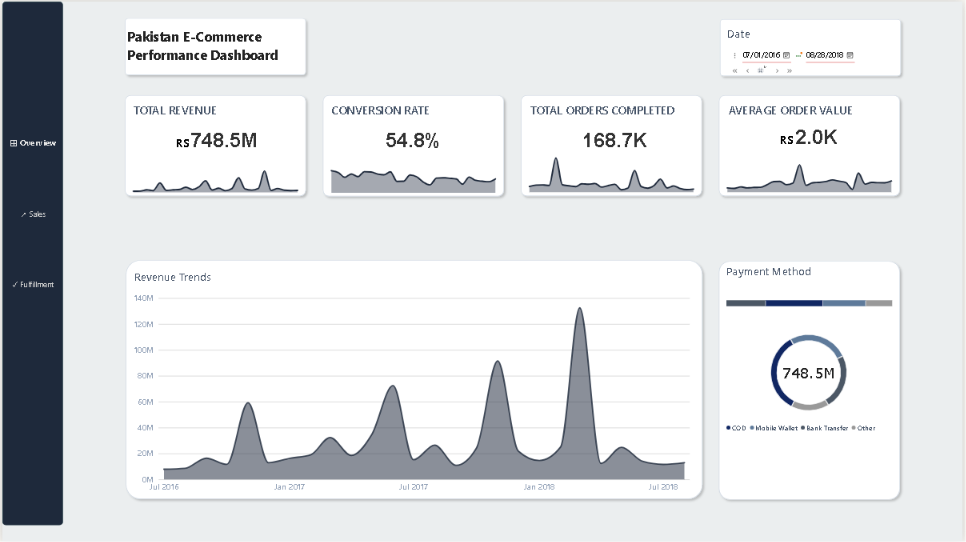

What the dashboard file says about the page in this screenshot:
{"tool":"powerbi","page":{"name":"⊞ Overview","canvas":[1920,1080],"ordinal":0},"visuals":[{"type":"shape","box":[1424,178,380,220],"z":0},{"type":"shape","box":[236,178,380,220],"z":1000},{"type":"shape","box":[1028,178,380,220],"z":2000},{"type":"shape","box":[632,178,380,220.5],"z":3000},{"type":"shape","box":[237.2,508.4,1171.1,495.8],"z":3000,"group":"g2"},{"type":"shape","box":[0,0,121.2,1047.5],"z":4000},{"type":"shape","box":[1423.3,510,380,495],"z":4000,"group":"g1"},{"type":"advanceCardE03760C5AB684758B56AA29F9E6C257B","title":"TOTAL ORDERS COMPLETED","fields":{"mainMeasure":["Measures (2).Total Orders"]},"box":[1040,185,368.3,136.7],"z":5000},{"type":"advanceCardE03760C5AB684758B56AA29F9E6C257B","title":"AVERAGE ORDER VALUE","fields":{"mainMeasure":["Measures (2).AOV"]},"box":[1436.7,185,353.3,125],"z":6000},{"type":"advanceCardE03760C5AB684758B56AA29F9E6C257B","title":"TOTAL REVENUE","fields":{"conditionMeasure":["Measures (2).MoM Revenue Growth %"],"mainMeasure":["Measures (2).Total Revenue"]},"box":[245,185,364.7,136.3],"z":7000},{"type":"advanceCardE03760C5AB684758B56AA29F9E6C257B","title":"CONVERSION RATE","fields":{"mainMeasure":["Measures (2).Conversion Rate"]},"box":[641.7,185,360,135.9],"z":8000},{"type":"areaChart","title":"Revenue Trends","fields":{"Category":["Fact_Orders.created_at.Variation.Date Hierarchy.Year","Fact_Orders.created_at.Variation.Date Hierarchy.Month"],"Y":["Sum(Fact_Orders.net_revenue)"]},"box":[247.9,520.3,1160.1,483.2],"z":8000,"group":"g2"},{"type":"areaChart","fields":{"Category":["Fact_Orders.created_at.Variation.Date Hierarchy.Year","Fact_Orders.created_at.Variation.Date Hierarchy.Month"],"Y":["Measures (2).Total Orders"]},"box":[1028.3,286.7,380,111.7],"z":9000},{"type":"areaChart","fields":{"Category":["Fact_Orders.created_at.Variation.Date Hierarchy.Year","Fact_Orders.created_at.Variation.Date Hierarchy.Month"],"Y":["Measures (2).AOV"]},"box":[1423.3,286.7,380,111.7],"z":10000},{"type":"areaChart","fields":{"Category":["Fact_Orders.created_at.Variation.Date Hierarchy.Year","Fact_Orders.created_at.Variation.Date Hierarchy.Month"],"Y":["Measures (2).Total Revenue"]},"box":[236.7,310,380,88.3],"z":11000},{"type":"areaChart","fields":{"Category":["Fact_Orders.created_at.Variation.Date Hierarchy.Year","Fact_Orders.created_at.Variation.Date Hierarchy.Month"],"Y":["Measures (2).Conversion Rate"]},"box":[631.7,308.3,380,90],"z":12000},{"type":"donutChart","title":"ACQUISITION / PAYMENT METHOD","fields":{"Category":["Fact_Orders.Payment Mode"],"Y":["Sum(Fact_Orders.net_revenue)"]},"box":[1430,632.1,365.2,250.3],"z":12000,"group":"g1"},{"type":"group","id":"g1","title":"Group 2","box":[237.2,508.4,1566.1,496.6],"z":13000},{"type":"hundredPercentStackedBarChart","title":"Payment Method","fields":{"Series":["Fact_Orders.Payment Mode"],"Y":["Sum(Fact_Orders.net_revenue)"]},"box":[1431.6,509.3,363.6,140.1],"z":13000,"group":"g1"},{"type":"group","id":"g2","title":"Group 1","box":[237.2,508.4,1171.1,495.8],"z":14001,"group":"g1"},{"type":"pageNavigator","box":[0,215.6,122.5,416.2],"z":15000},{"type":"shape","box":[1426,25,380,132],"z":15001},{"type":"CalendarProC1C152554D75E8F99A5382304B7E4AC0","fields":{"dateInput":["Fact_Orders.created_at"]},"box":[1433,33,362,124],"z":15002},{"type":"shape","box":[236,24,380,132],"z":15003},{"type":"textbox","box":[245.9,33.1,361,123.8],"z":15004}]}

Visuals, with their boxes on the page's 1920x1080 design canvas (x1, y1, x2, y2). These are canvas units, not pixel positions in the 966x542 screenshot, which may show the page scaled, cropped or inside an application window:
shape: region(1424, 178, 1804, 398)
shape: region(236, 178, 616, 398)
shape: region(1028, 178, 1408, 398)
shape: region(632, 178, 1012, 398)
shape: region(237, 508, 1408, 1004)
shape: region(0, 0, 121, 1048)
shape: region(1423, 510, 1803, 1005)
"TOTAL ORDERS COMPLETED" advanceCardE03760C5AB684758B56AA29F9E6C257B: region(1040, 185, 1408, 322)
"AVERAGE ORDER VALUE" advanceCardE03760C5AB684758B56AA29F9E6C257B: region(1437, 185, 1790, 310)
"TOTAL REVENUE" advanceCardE03760C5AB684758B56AA29F9E6C257B: region(245, 185, 610, 321)
"CONVERSION RATE" advanceCardE03760C5AB684758B56AA29F9E6C257B: region(642, 185, 1002, 321)
"Revenue Trends" areaChart: region(248, 520, 1408, 1004)
areaChart - Fact_Orders.created_at.Variation.Date Hierarchy.Year x Fact_Orders.created_at.Variation.Date Hierarchy.Month: region(1028, 287, 1408, 398)
areaChart - Fact_Orders.created_at.Variation.Date Hierarchy.Year x Fact_Orders.created_at.Variation.Date Hierarchy.Month: region(1423, 287, 1803, 398)
areaChart - Fact_Orders.created_at.Variation.Date Hierarchy.Year x Fact_Orders.created_at.Variation.Date Hierarchy.Month: region(237, 310, 617, 398)
areaChart - Fact_Orders.created_at.Variation.Date Hierarchy.Year x Fact_Orders.created_at.Variation.Date Hierarchy.Month: region(632, 308, 1012, 398)
"ACQUISITION / PAYMENT METHOD" donutChart: region(1430, 632, 1795, 882)
"Group 2" group: region(237, 508, 1803, 1005)
"Payment Method" hundredPercentStackedBarChart: region(1432, 509, 1795, 649)
"Group 1" group: region(237, 508, 1408, 1004)
pageNavigator: region(0, 216, 122, 632)
shape: region(1426, 25, 1806, 157)
CalendarProC1C152554D75E8F99A5382304B7E4AC0 - Fact_Orders.created_at: region(1433, 33, 1795, 157)
shape: region(236, 24, 616, 156)
textbox: region(246, 33, 607, 157)
